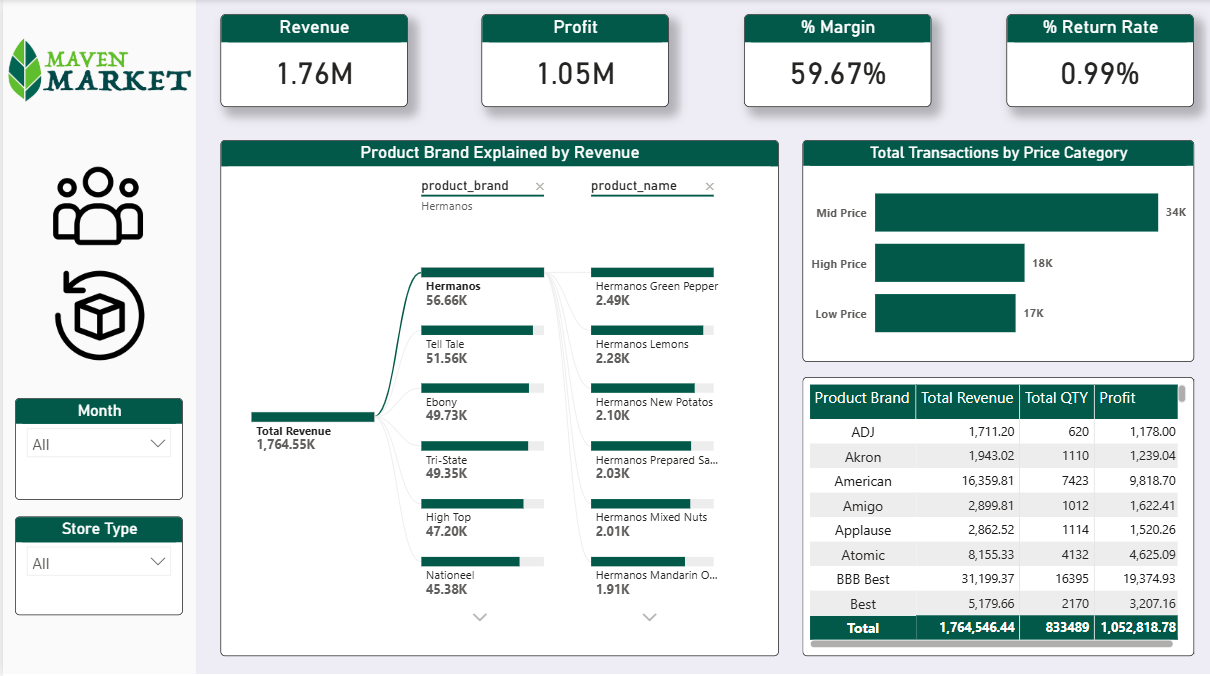

What the dashboard file says about the page in this screenshot:
{"tool":"powerbi","page":{"name":"Products","canvas":[1280,720],"ordinal":2},"visuals":[{"type":"image","box":[0,0,203.3,150],"z":0},{"type":"card","title":"Revenue","fields":{"Values":["_measures.Total Revenue"]},"box":[230,16.7,198.3,98.3],"z":1000},{"type":"card","title":"Profit","fields":{"Values":["_measures.Profit"]},"box":[507.8,16.7,198.3,98.3],"z":2000},{"type":"card","title":"% Margin","fields":{"Values":["_measures.%Margin"]},"box":[785.6,16.7,198.3,98.3],"z":3000},{"type":"card","title":"% Return Rate","fields":{"Values":["_measures.%Return Rate"]},"box":[1063.3,16.7,198.3,98.3],"z":4000},{"type":"decompositionTreeVisual","title":"Product Brand Explained by Revenue","fields":{"ExplainBy":["DimProducts.product_brand","DimProducts.product_name"],"Analyze":["_measures.Total Revenue"]},"box":[230.6,149.5,591.7,547.2],"z":5000},{"type":"clusteredBarChart","title":"Total Transactions by Price Category","fields":{"Y":["_measures.Total Transactions"],"Category":["DimProducts.Price Category"]},"box":[847.8,149.5,415.1,235.4],"z":6000},{"type":"pivotTable","fields":{"Rows":["DimProducts.product_brand"],"Values":["_measures.Total Revenue","_measures.Total QTY","_measures.Profit"]},"box":[847.8,400.8,415.1,295.9],"z":7000},{"type":"slicer","title":"Month","fields":{"Values":["DimCalendar.Month"]},"box":[12.7,423.1,178.1,108.2],"z":8000},{"type":"slicer","title":"Store Type","fields":{"Values":["DimStores.store_type"]},"box":[12.7,548.8,178.1,105],"z":9000},{"type":"image","box":[52.5,171.8,97,95.4],"z":10000},{"type":"image","box":[49.3,286.3,106.6,98.6],"z":11000}]}

Visuals, with their boxes in screenshot pixels (x1, y1, x2, y2), scaled from the page's 1280x720 canvas onto the 1210x676 screenshot:
image: [0, 0, 192, 141]
"Revenue" card: [217, 16, 405, 108]
"Profit" card: [480, 16, 667, 108]
"% Margin" card: [743, 16, 930, 108]
"% Return Rate" card: [1005, 16, 1193, 108]
"Product Brand Explained by Revenue" decompositionTreeVisual: [218, 140, 777, 654]
"Total Transactions by Price Category" clusteredBarChart: [801, 140, 1194, 361]
pivotTable - DimProducts.product_brand x _measures.Total Revenue: [801, 376, 1194, 654]
"Month" slicer: [12, 397, 180, 499]
"Store Type" slicer: [12, 515, 180, 614]
image: [50, 161, 141, 251]
image: [47, 269, 147, 361]
